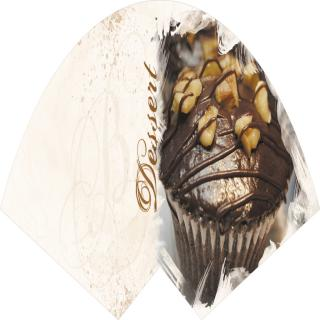Muffin: (156, 49, 294, 298)
